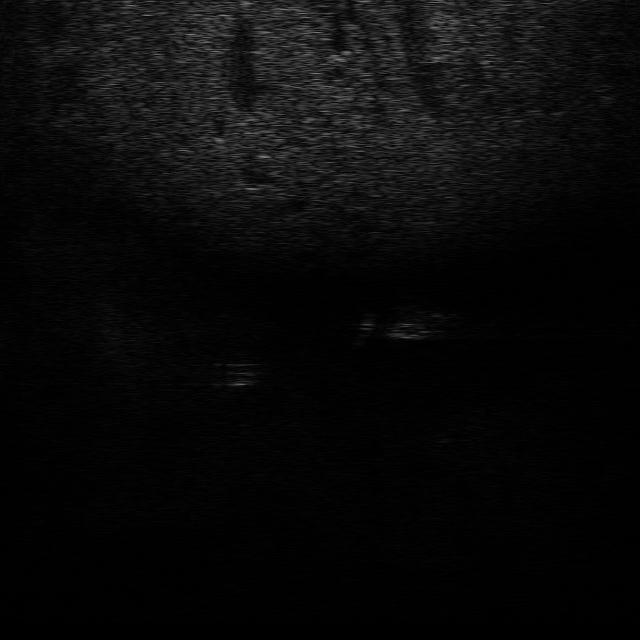ball: (212, 359, 262, 390)
human body: (348, 308, 463, 346)
